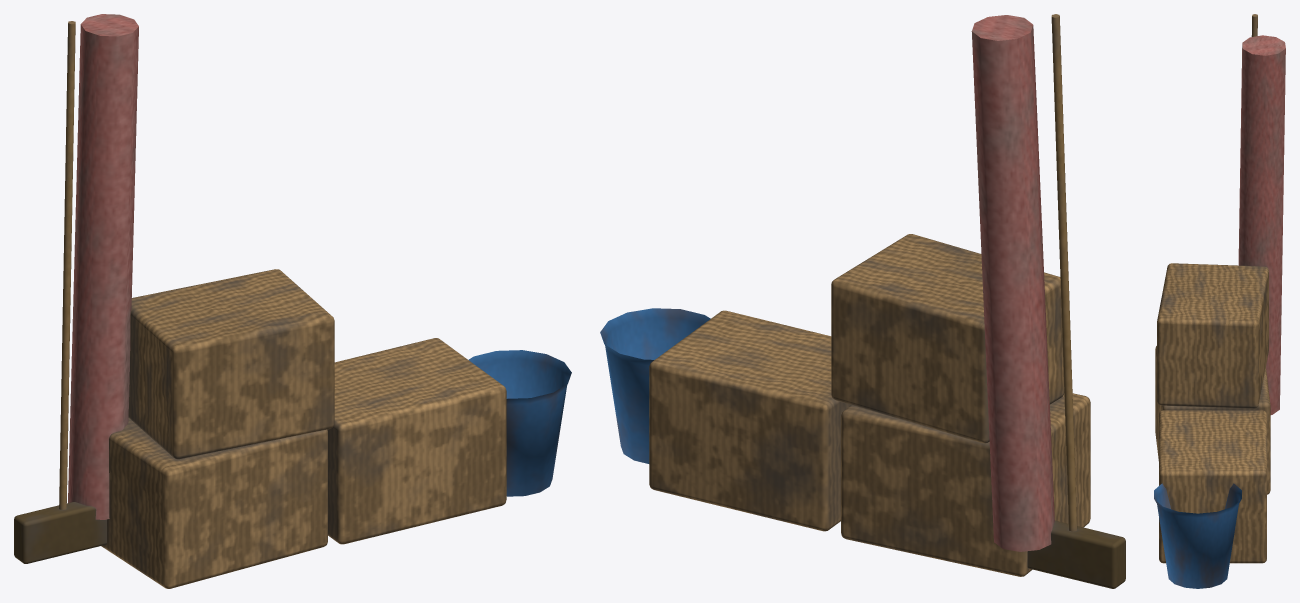
The model's file is fas_rupiecie_a.glb.
3 views of the same model, side by side, from view 1: azimuth 30°, elevation 25°; view 2: azimuth 150°, elevation 25°; view 3: azimuth 270°, elevation 25° (orthographic). The views are drawn at different scales.
Parts seen in each view (by area): view 1: Rupiecie; view 2: Rupiecie; view 3: Rupiecie.
Boxes of the visible parts, x1,y1,x2,y2 form: Rupiecie: (14, 14, 571, 588); Rupiecie: (600, 14, 1125, 588); Rupiecie: (1154, 14, 1285, 588).
Bounding box in the file's own units: 1.52 × 1.5 × 0.4389.
Materials: 1 (1 with a texture image).
